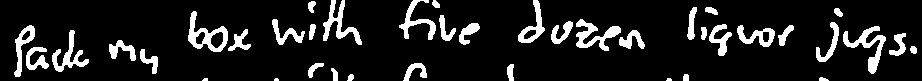Pack my box with five dozen liquor jugs.: (0, 0, 922, 81)
